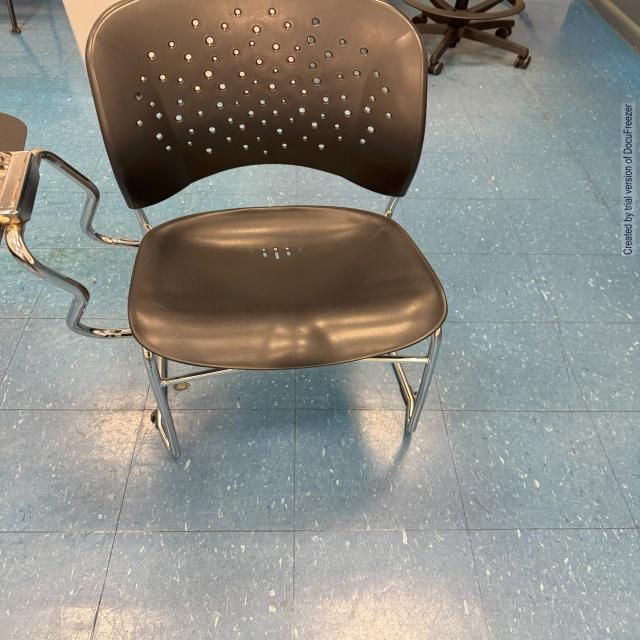chair: (1, 0, 514, 477)
